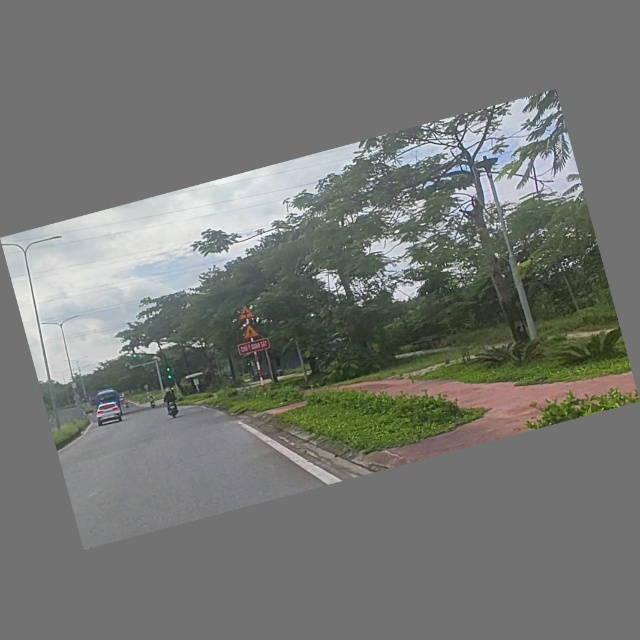W.205a: (235, 304, 256, 322)
W.224: (240, 322, 263, 343)
